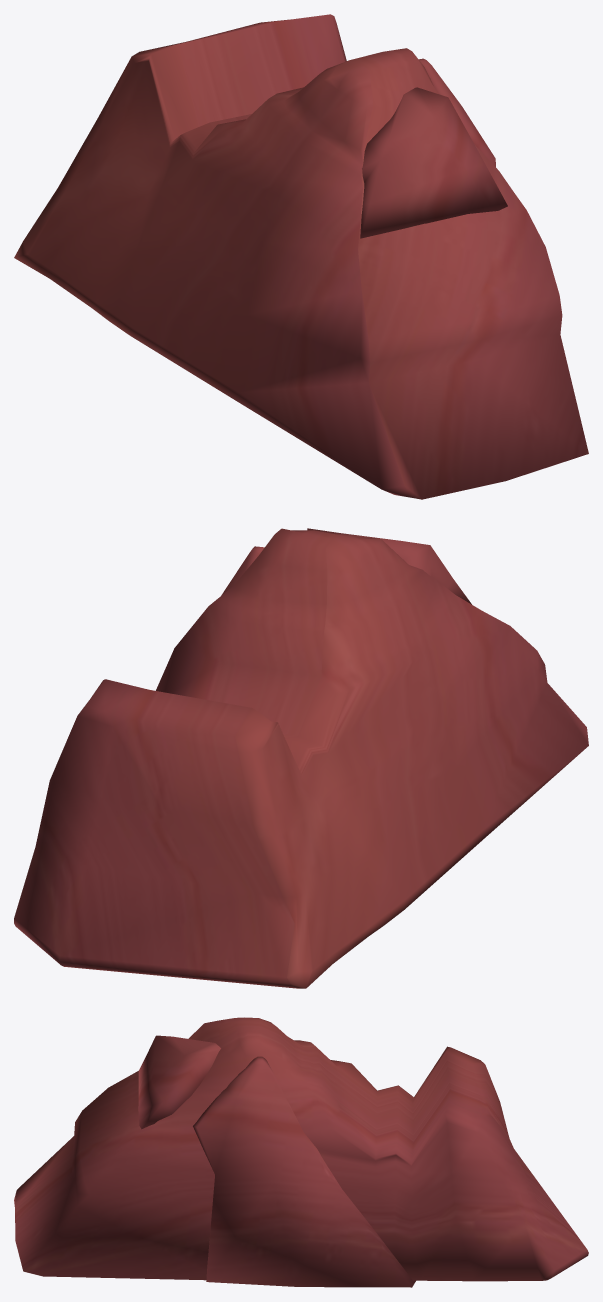
File: SM_Collision_LStone_04.fbx
3 renders of one model, top to bottom at view 1: azimuth 30°, elevation 25°; view 2: azimuth 150°, elevation 25°; view 3: azimuth 270°, elevation 25°, orthographic. The views are drawn at different scales.
Visible parts, largest first — view 1: SM_Stone_04_L; view 2: SM_Stone_04_L; view 3: SM_Stone_04_L.
Boxes of the visible parts, bbox=[...] form: SM_Stone_04_L: bbox=[14, 14, 588, 499]; SM_Stone_04_L: bbox=[14, 528, 588, 988]; SM_Stone_04_L: bbox=[14, 1017, 588, 1287].
Bounding box in the file's own units: 741 × 720 × 1666.
